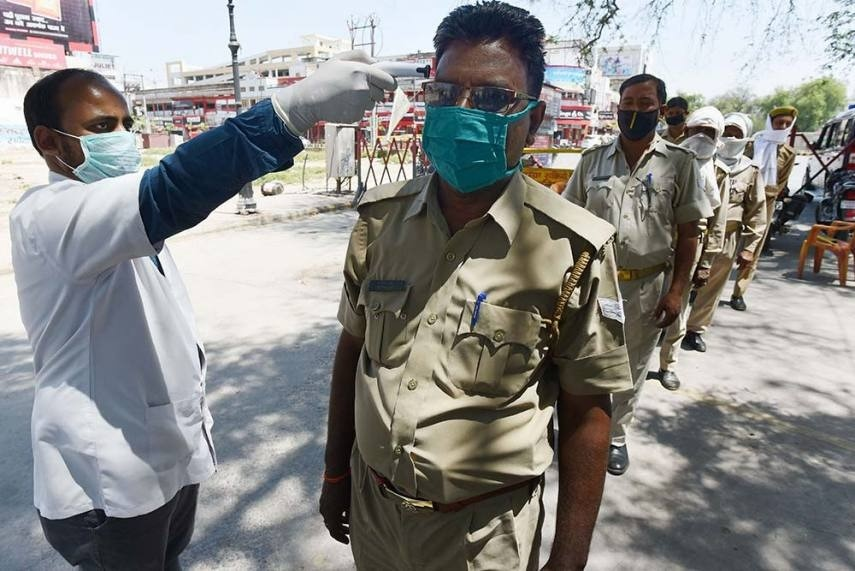face_with_mask: (414, 4, 550, 192), (29, 74, 146, 182), (607, 75, 670, 148), (660, 93, 693, 137)
